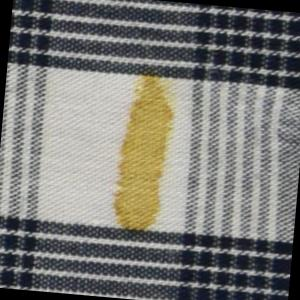Oil Stain: (108, 68, 183, 241)
